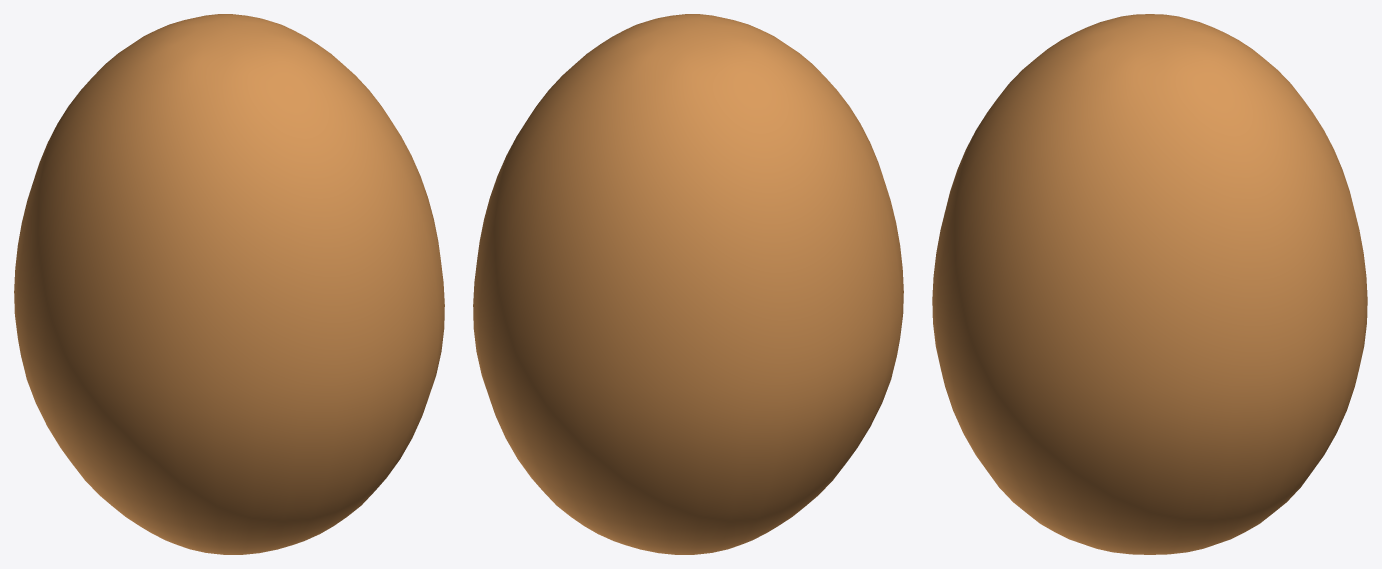
The model's file is normal_egg.fbx.
The picture shows the model from 3 angles, left to right: view 1: azimuth 30°, elevation 25°; view 2: azimuth 150°, elevation 25°; view 3: azimuth 270°, elevation 25°; orthographic projection.
Parts seen in each view (by area): view 1: pSphere3; view 2: pSphere3; view 3: pSphere3.
Part boxes in pixels (bbox=[...]): pSphere3: bbox=[14, 14, 444, 554]; pSphere3: bbox=[473, 14, 903, 554]; pSphere3: bbox=[932, 14, 1367, 554].
Bounding box in the file's own units: 3.99 × 5.21 × 4.09.
